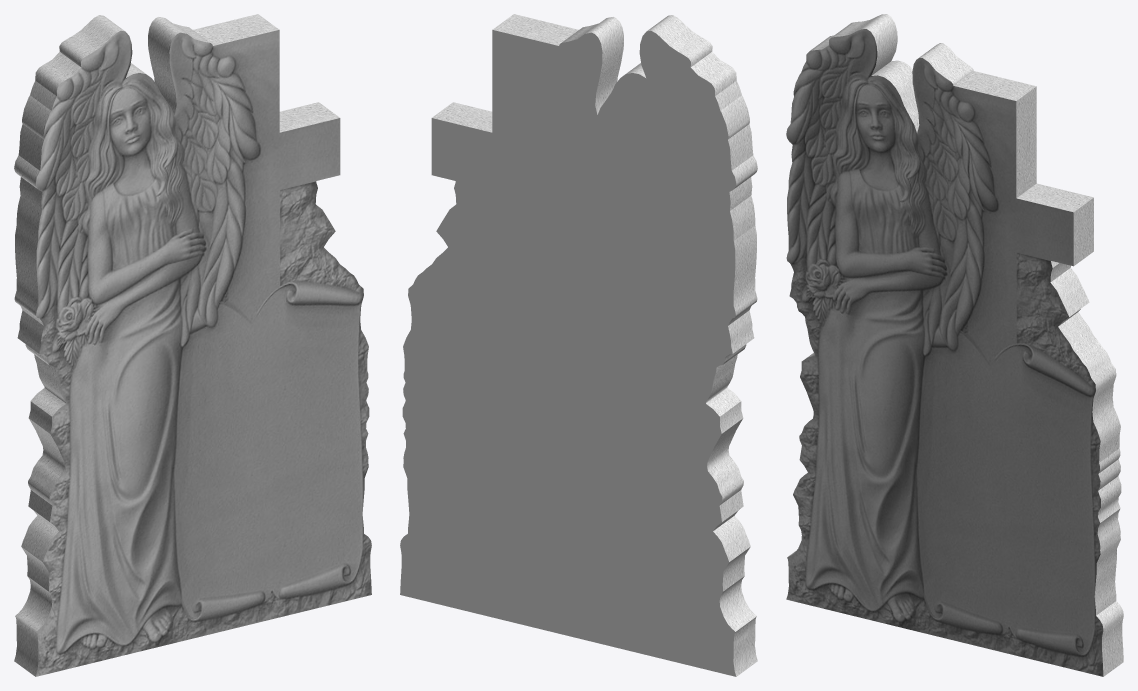
File: cn616969385c_tkf.glb
3 views of the same model, side by side, from view 1: azimuth 30°, elevation 25°; view 2: azimuth 150°, elevation 25°; view 3: azimuth 330°, elevation 25° (orthographic). The views are drawn at different scales.
Parts seen in each view (by area): view 1: Pam-d02-124_2_notexture; view 2: Pam-d02-124, Pam-d02-124_2_notexture; view 3: Pam-d02-124_2_notexture.
Part boxes in pixels (x1,y1,x2,y2): Pam-d02-124_2_notexture: (14,14,371,676); Pam-d02-124: (400,30,736,676); Pam-d02-124_2_notexture: (419,14,757,676); Pam-d02-124_2_notexture: (786,14,1123,676).
Size of the model in its own units: 0.45 by 0.8 by 0.05.
1 material, 1 textured.
